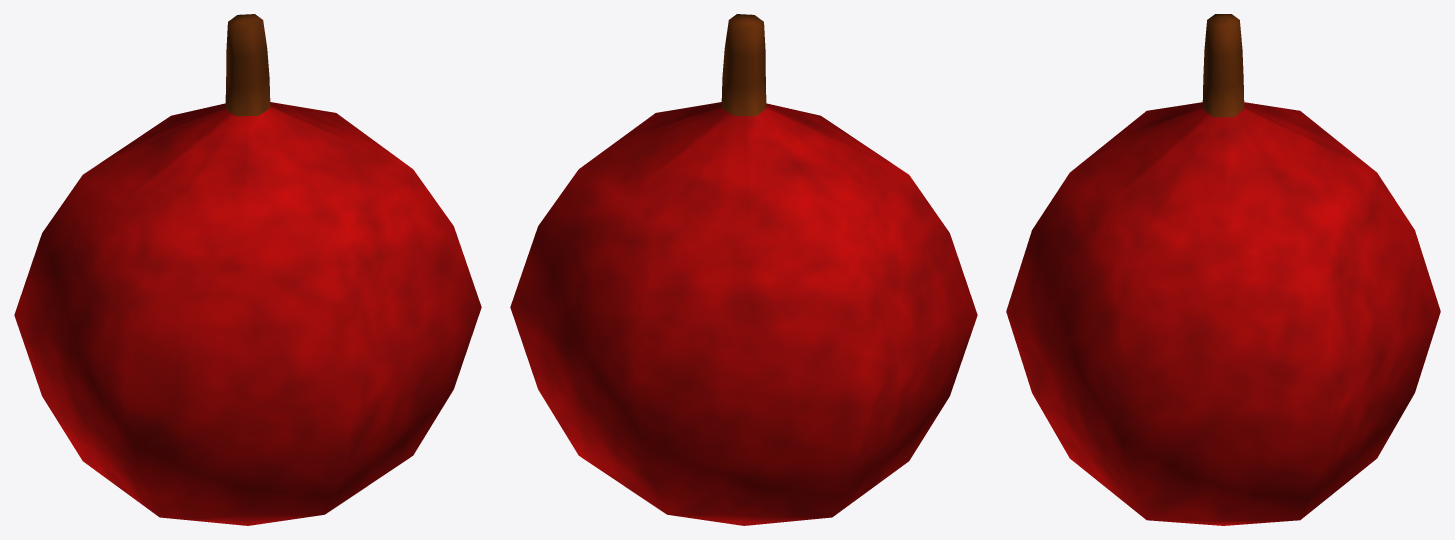
The model's file is Apple3.glb.
3 renders of one model, left to right at view 1: azimuth 30°, elevation 25°; view 2: azimuth 150°, elevation 25°; view 3: azimuth 270°, elevation 25°, orthographic.
Visible parts, largest first — view 1: Apple.002; view 2: Apple.002; view 3: Apple.002.
Part boxes in pixels (x1,y1,x2,y2): Apple.002: (14, 14, 481, 525); Apple.002: (510, 14, 977, 525); Apple.002: (1006, 14, 1440, 525).
Size of the model in its own units: 1.7 by 2.3 by 1.79.
Materials: 2 (2 with a texture image).
